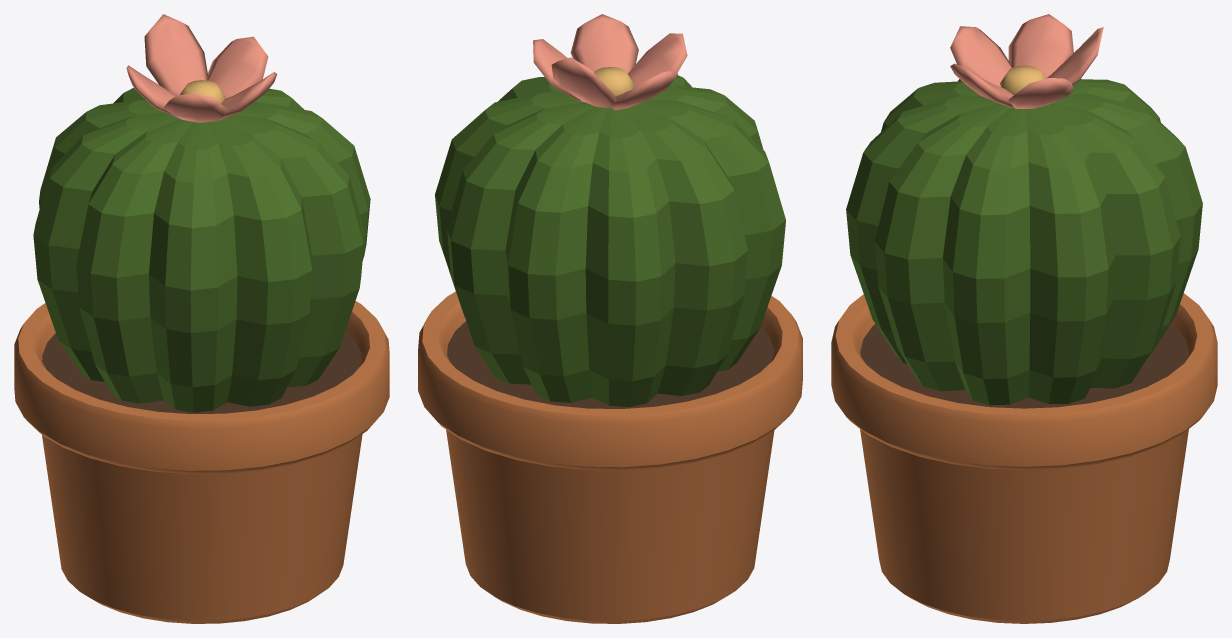
Rendered from cactus.glb.
3 views of the same model, side by side, from view 1: azimuth 30°, elevation 25°; view 2: azimuth 150°, elevation 25°; view 3: azimuth 270°, elevation 25° (orthographic). The views are drawn at different scales.
Parts seen in each view (by area): view 1: cactus_ribbed_barrel, cactus_terracotta_pot, cactus_soil, cactus_flower_petal_1, cactus_flower_petal_5, cactus_flower_petal_3, cactus_flower_petal_2, cactus_flower_petal_4, cactus_flower_center; view 2: cactus_ribbed_barrel, cactus_terracotta_pot, cactus_soil, cactus_flower_petal_4, cactus_flower_petal_1, cactus_flower_petal_3, cactus_flower_petal_2, cactus_flower_petal_5, cactus_flower_center; view 3: cactus_ribbed_barrel, cactus_terracotta_pot, cactus_soil, cactus_flower_petal_2, cactus_flower_petal_3, cactus_flower_petal_5, cactus_flower_petal_1, cactus_flower_petal_4, cactus_flower_center.
Part boxes in pixels (x1,y1,x2,y2): cactus_ribbed_barrel: [33, 87, 370, 412]; cactus_terracotta_pot: [14, 301, 389, 623]; cactus_soil: [42, 331, 361, 413]; cactus_flower_petal_1: [144, 14, 208, 95]; cactus_flower_petal_5: [207, 36, 268, 98]; cactus_flower_petal_3: [163, 93, 229, 122]; cactus_flower_petal_2: [126, 65, 179, 118]; cactus_flower_petal_4: [218, 72, 277, 120]; cactus_flower_center: [180, 80, 225, 103]; cactus_ribbed_barrel: [435, 75, 785, 407]; cactus_terracotta_pot: [418, 291, 802, 623]; cactus_soil: [447, 321, 774, 408]; cactus_flower_petal_4: [570, 14, 638, 73]; cactus_flower_petal_1: [551, 57, 616, 108]; cactus_flower_petal_3: [628, 33, 687, 88]; cactus_flower_petal_2: [610, 70, 677, 110]; cactus_flower_petal_5: [533, 39, 583, 101]; cactus_flower_center: [594, 67, 634, 96]; cactus_ribbed_barrel: [846, 79, 1202, 405]; cactus_terracotta_pot: [831, 293, 1217, 623]; cactus_soil: [860, 322, 1188, 408]; cactus_flower_petal_2: [1008, 14, 1073, 78]; cactus_flower_petal_3: [950, 26, 1011, 86]; cactus_flower_petal_5: [1008, 78, 1073, 108]; cactus_flower_petal_1: [1046, 27, 1103, 85]; cactus_flower_petal_4: [950, 63, 1013, 108]; cactus_flower_center: [1000, 65, 1045, 94].
Bounding box in the file's own units: 0.55 × 0.847 × 0.55.
